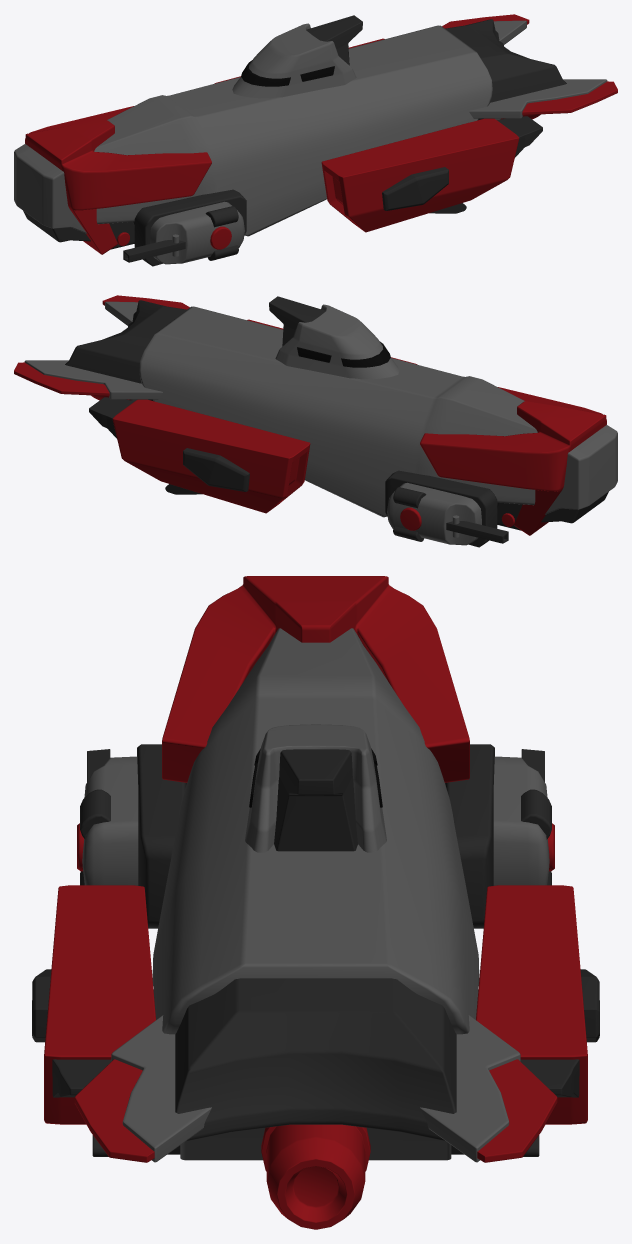
The model's file is Frigate_01.fbx.
3 views of the same model, one above another, from view 1: azimuth 30°, elevation 25°; view 2: azimuth 150°, elevation 25°; view 3: azimuth 270°, elevation 25° (orthographic). The views are drawn at different scales.
Visible parts, largest first — view 1: Frigate_1; view 2: Frigate_1; view 3: Frigate_1.
Part boxes in pixels (left/top/right/bottom): Frigate_1: left=14, top=14, right=617, bottom=266; Frigate_1: left=14, top=295, right=617, bottom=547; Frigate_1: left=32, top=576, right=599, bottom=1229.
Size of the model in its own units: 4009 by 1189 by 1818.
